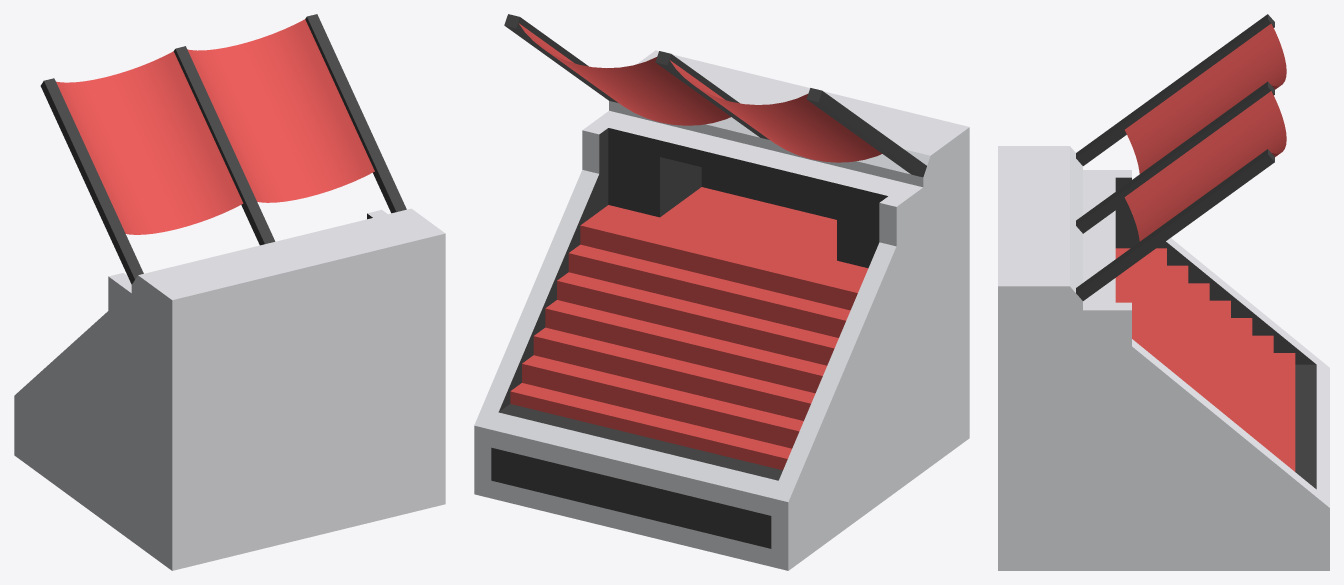
File: kit_grandStandAwning.obj
3 views of the same model, side by side, from view 1: azimuth 30°, elevation 25°; view 2: azimuth 150°, elevation 25°; view 3: azimuth 270°, elevation 25° (orthographic). The views are drawn at different scales.
Visible parts, largest first — view 1: grandStandAwning; view 2: grandStandAwning; view 3: grandStandAwning.
Boxes of the visible parts, x1,y1,x2,y2 form: grandStandAwning: (14, 14, 445, 570); grandStandAwning: (474, 14, 969, 570); grandStandAwning: (998, 14, 1329, 570).
Size of the model in its own units: 1 by 1.39 by 1.
